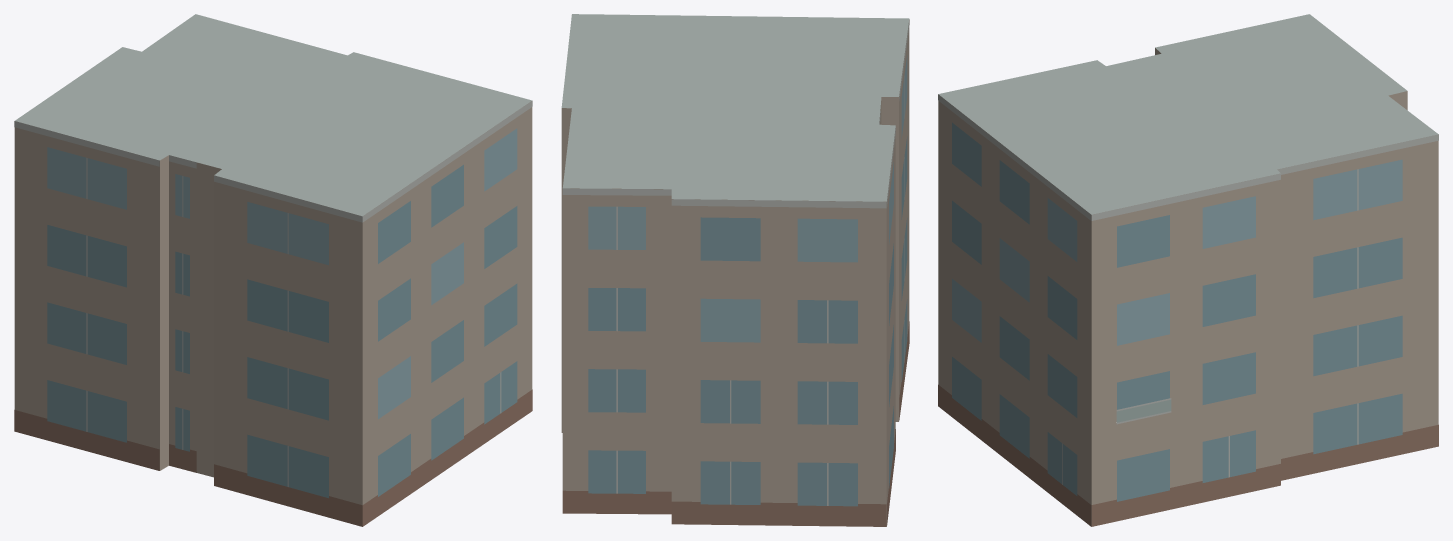
Rendered from survey-upis-32485772.glb.
The picture shows the model from 3 angles, left to right: view 1: azimuth 30°, elevation 25°; view 2: azimuth 150°, elevation 25°; view 3: azimuth 270°, elevation 25°; orthographic projection. The views are drawn at different scales.
Parts seen in each view (by area): view 1: survey-upis-32485772.tmp; view 2: survey-upis-32485772.tmp; view 3: survey-upis-32485772.tmp.
Boxes of the visible parts, x1,y1,x2,y2 form: survey-upis-32485772.tmp: (14, 14, 532, 526); survey-upis-32485772.tmp: (561, 14, 909, 526); survey-upis-32485772.tmp: (938, 14, 1438, 526).
Bounding box in the file's own units: 16.56 × 12 × 17.45.
